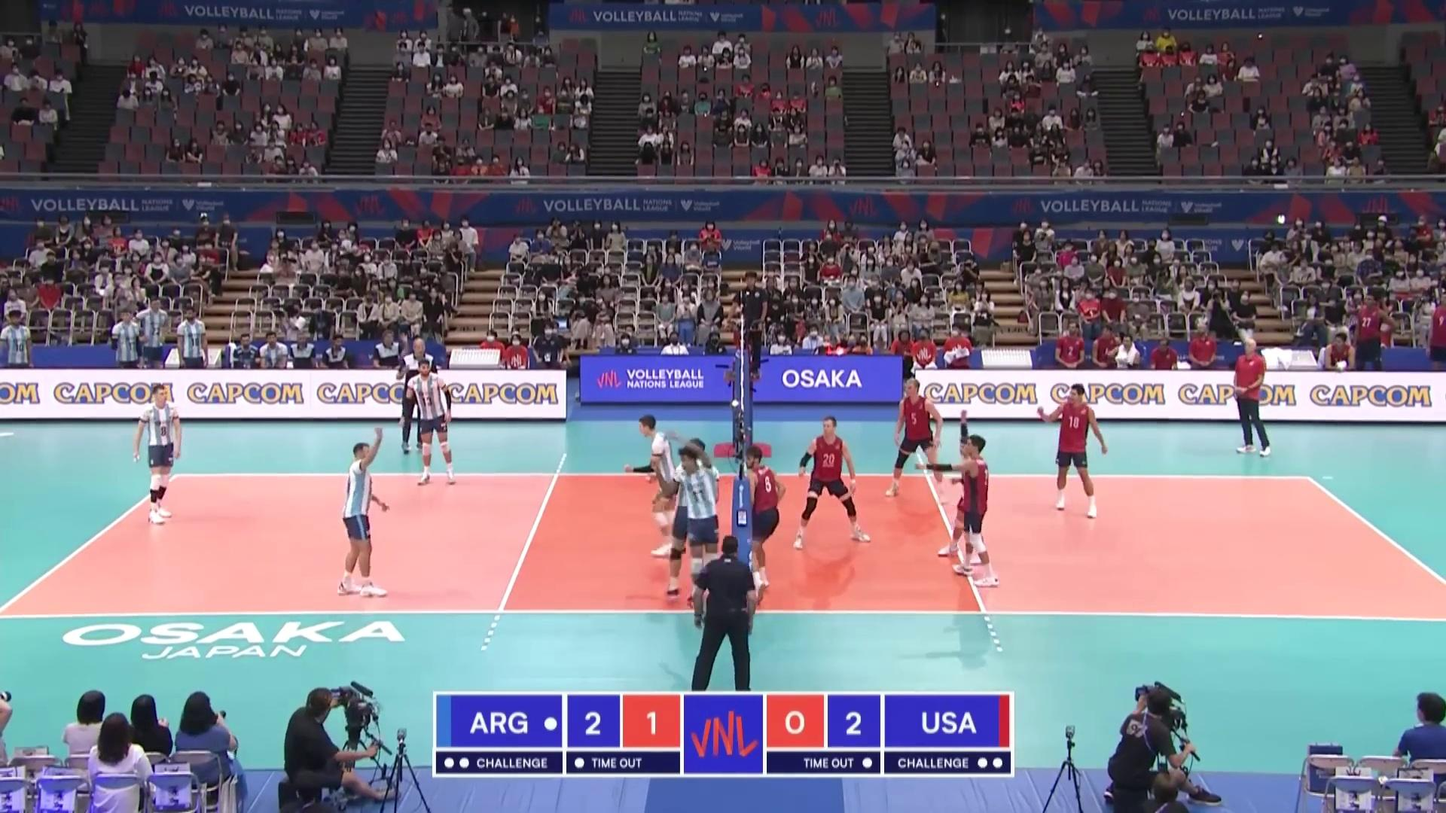player: (791, 416, 872, 548), (665, 446, 722, 621), (1039, 384, 1105, 521), (625, 416, 684, 559), (334, 438, 386, 599), (930, 429, 992, 564), (885, 379, 947, 503), (402, 361, 458, 487), (133, 385, 183, 524), (743, 448, 787, 605), (953, 435, 997, 587)
refree: (693, 532, 760, 699), (661, 439, 721, 600), (731, 273, 768, 378)
